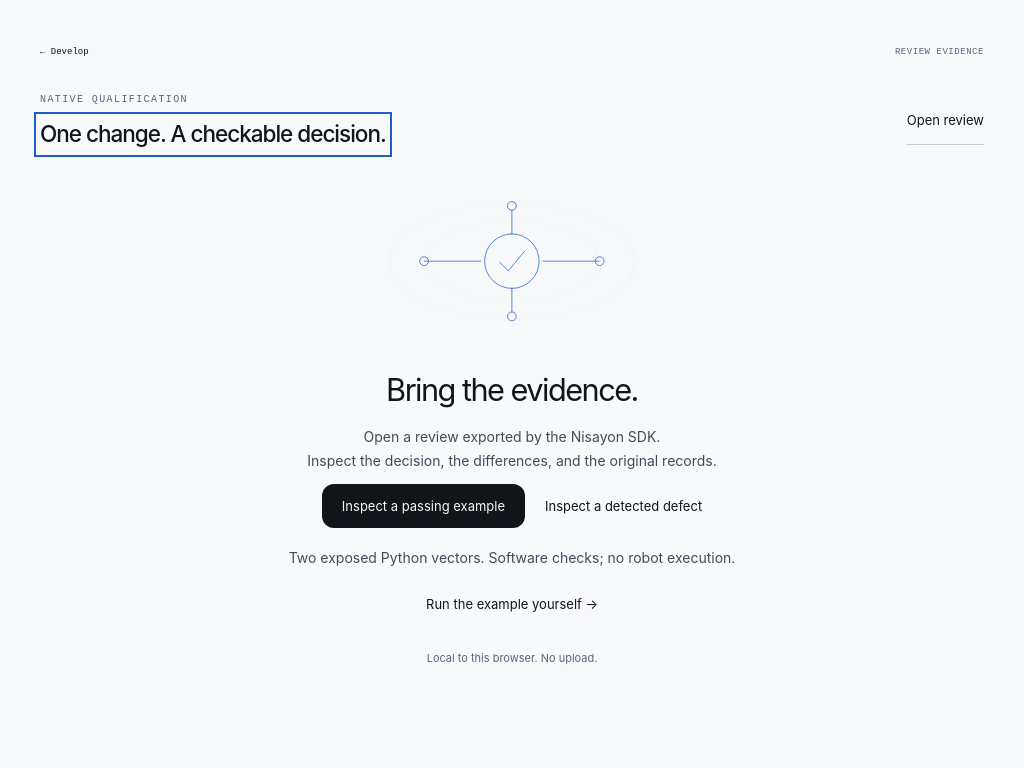
keeps local import available when a public example cannot be fetched
What coordinates should you click on to do the following:
click the button "Inspect a passing example"
I would click on:
 (423, 506)
Its box is [322,484,525,528].
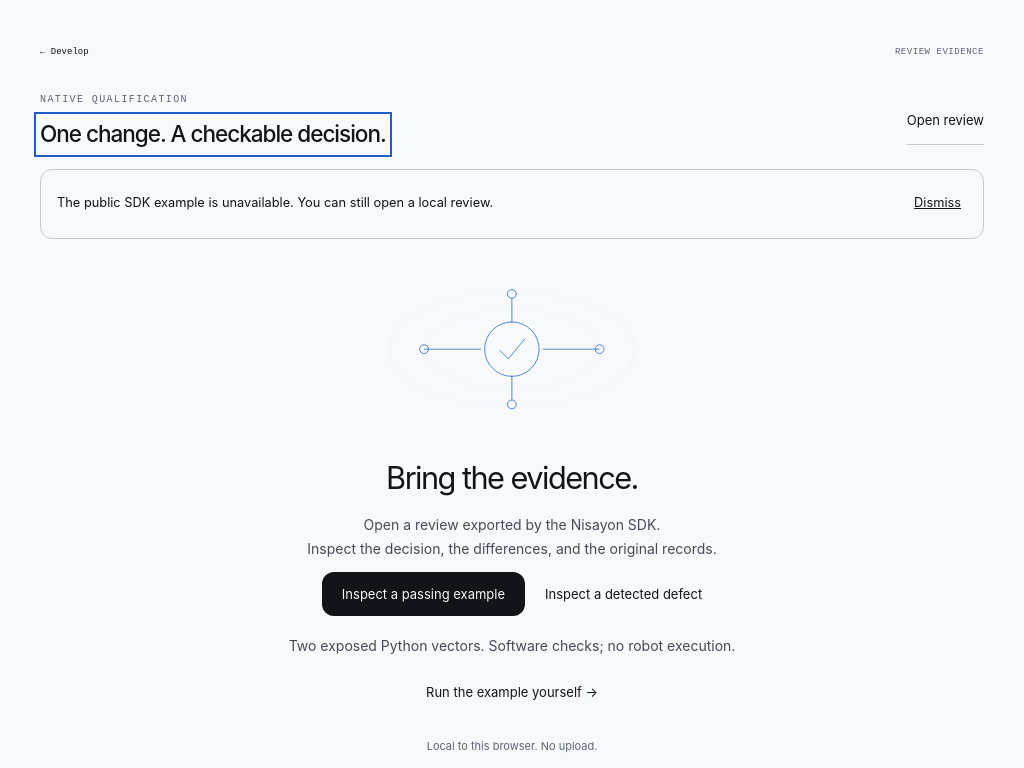
Expected: the message shows "still open a local review", [57,195,493,210]
